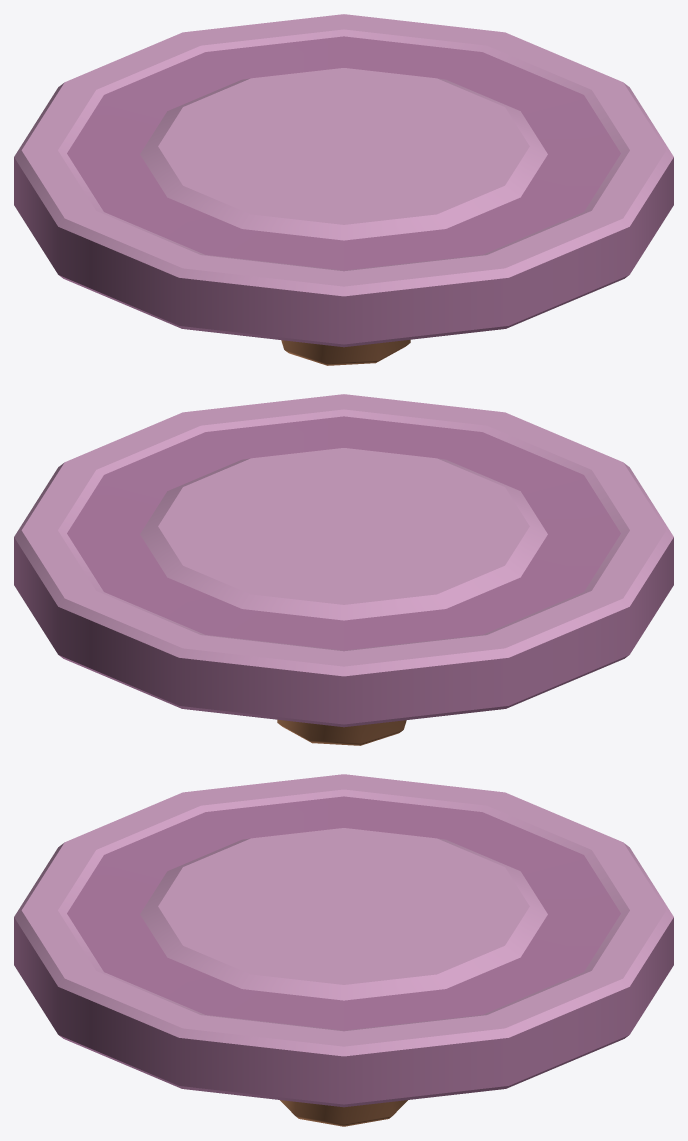
Rendered from CoffeeTable.fbx.
3 renders of one model, top to bottom at view 1: azimuth 30°, elevation 25°; view 2: azimuth 150°, elevation 25°; view 3: azimuth 270°, elevation 25°, orthographic.
Visible parts, largest first — view 1: CoffeeTable; view 2: CoffeeTable; view 3: CoffeeTable.
Boxes of the visible parts, x1,y1,x2,y2 form: CoffeeTable: (14,14,673,365); CoffeeTable: (14,394,673,745); CoffeeTable: (14,774,673,1126).
Size of the model in its own units: 2.26 by 0.7315 by 2.26.
